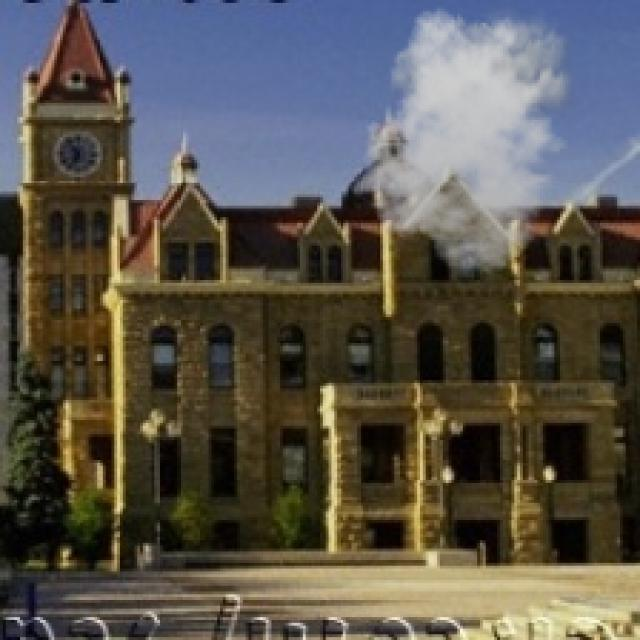smoke: (357, 0, 583, 275)
